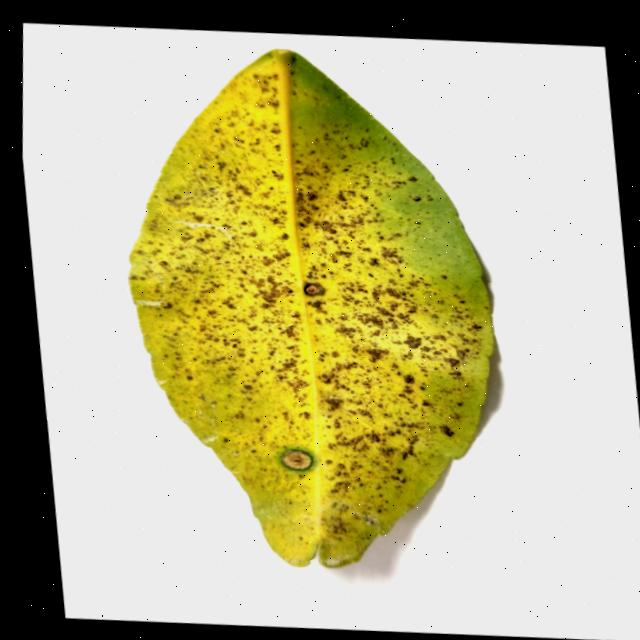melanose: (127, 48, 491, 566)
